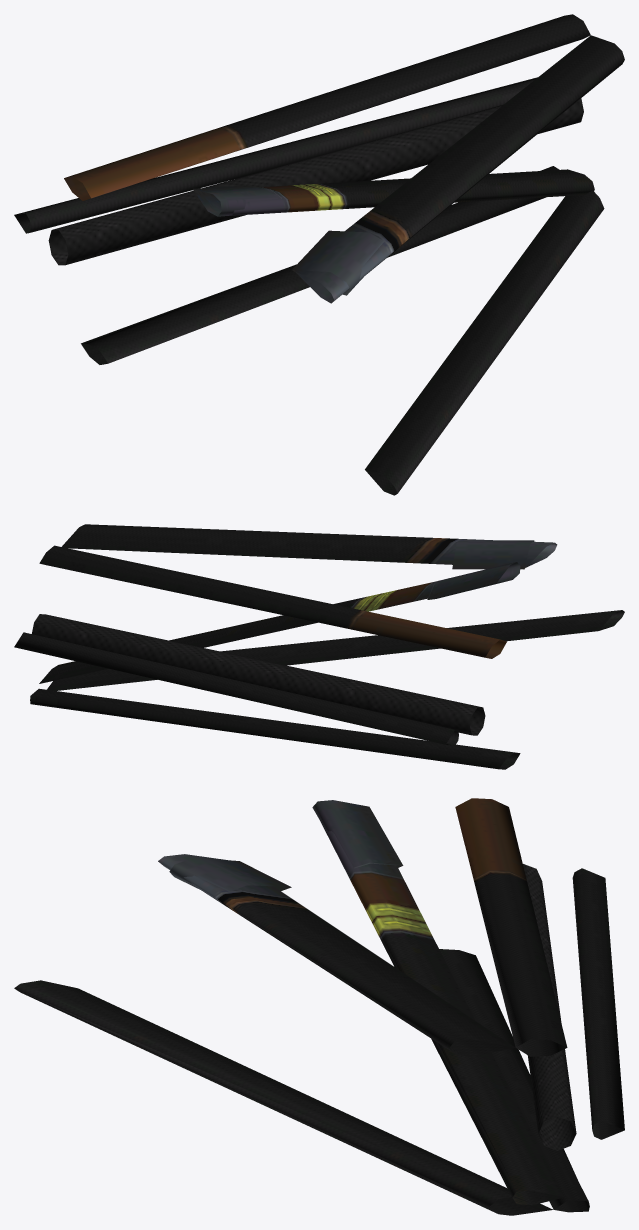
The model's file is FerrariF2007_SuspRL.glb.
3 renders of one model, top to bottom at view 1: azimuth 30°, elevation 25°; view 2: azimuth 150°, elevation 25°; view 3: azimuth 270°, elevation 25°, orthographic. The views are drawn at different scales.
Parts seen in each view (by area): view 1: fer_suspa_rl; view 2: fer_suspa_rl; view 3: fer_suspa_rl.
Part boxes in pixels (<box>): fer_suspa_rl: <box>14,14,624,495</box>; fer_suspa_rl: <box>14,524,624,769</box>; fer_suspa_rl: <box>14,798,624,1215</box>.
Bounding box in the file's own units: 0.5315 × 0.1878 × 0.541.
1 material, 1 textured.
